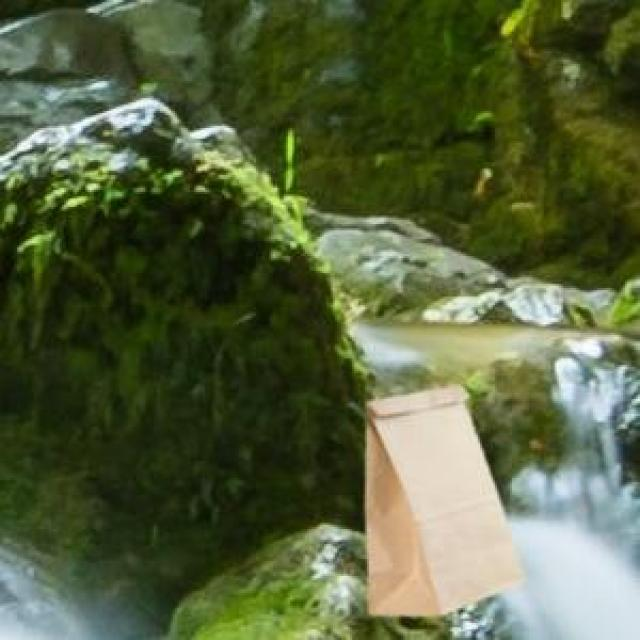paper: (363, 384, 518, 612)
